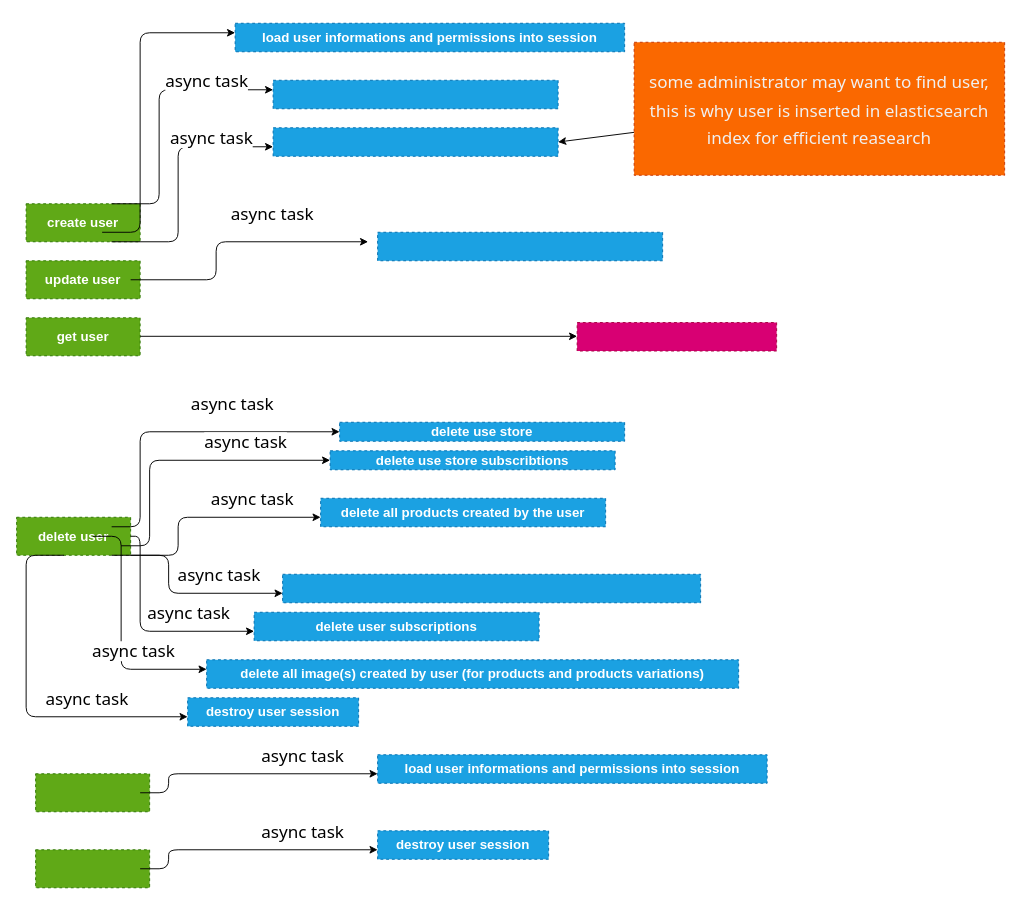
Image size: 1021x906. Some labels were removed from this diagram. The shapes that lost their labels are listed below. From the top down, each one's centre as x and y in pixels, then its label:
At pixel 415 94: "send email to confirm inscription".
At pixel 415 141: "add user into elasticsearch index".
At pixel 520 246: "update user into elasticsearch index".
At pixel 676 336: "no additional tasks".
At pixel 491 588: "delete all products variations of product(s) created by the user".
At pixel 92 792: "login user".
At pixel 92 868: "logout user".
